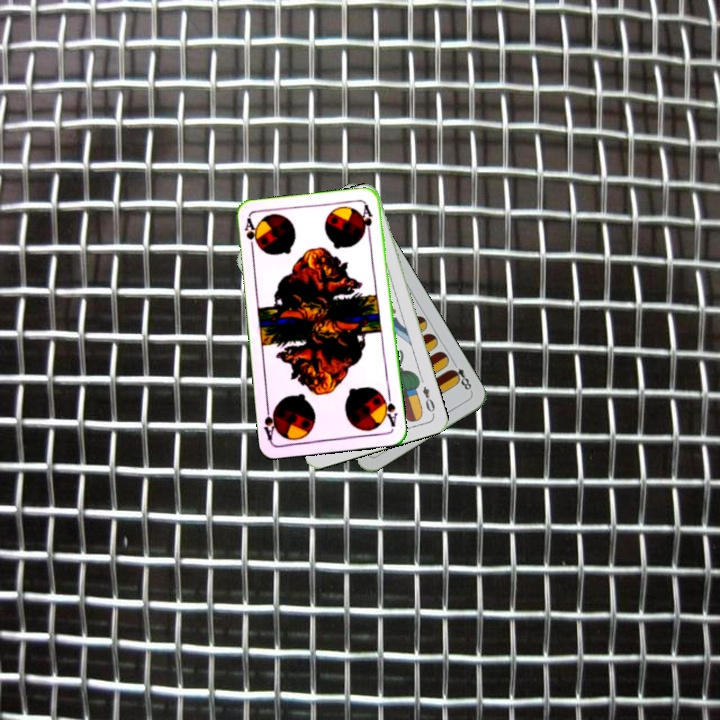E8: (446, 358, 474, 395)
EO: (418, 382, 437, 418)
SA: (378, 389, 400, 429), (240, 214, 260, 255)
